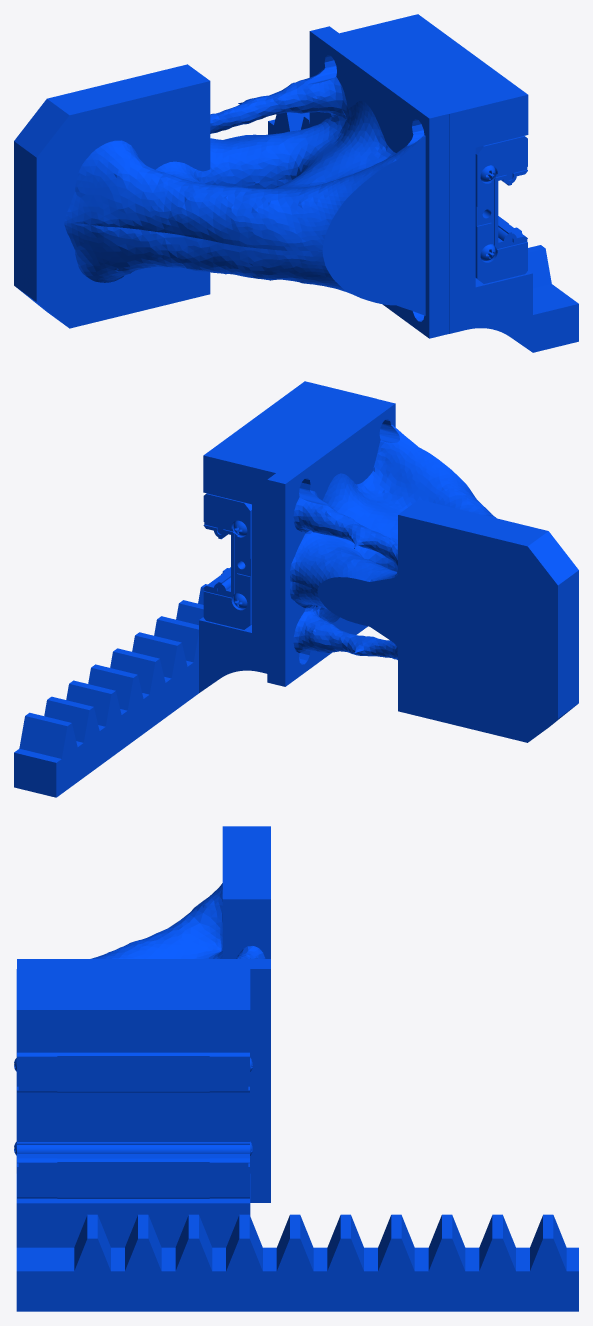
Rendered from gripper_fingers_2_visual.glb.
3 views of the same model, one above another, from view 1: azimuth 30°, elevation 25°; view 2: azimuth 150°, elevation 25°; view 3: azimuth 270°, elevation 25° (orthographic). The views are drawn at different scales.
Visible parts, largest first — view 1: gripper_fingers_2_visual.001; view 2: gripper_fingers_2_visual.001; view 3: gripper_fingers_2_visual.001.
Part boxes in pixels (left/top/right/bottom): gripper_fingers_2_visual.001: left=14, top=14, right=578, bottom=352; gripper_fingers_2_visual.001: left=14, top=381, right=578, bottom=797; gripper_fingers_2_visual.001: left=14, top=826, right=578, bottom=1311.
Size of the model in its own units: 0.0677 by 0.0377 by 0.0701.
